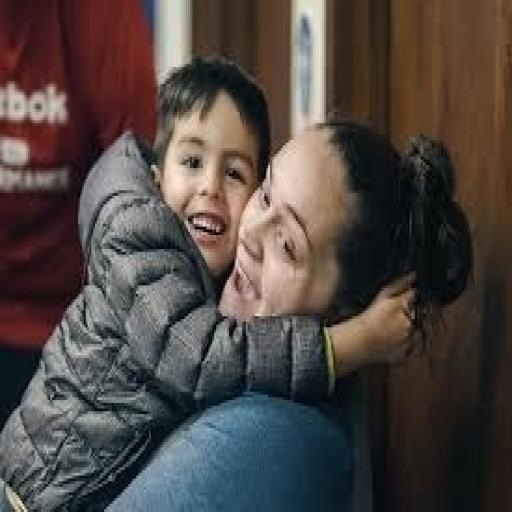hugging: (2, 50, 475, 510)
